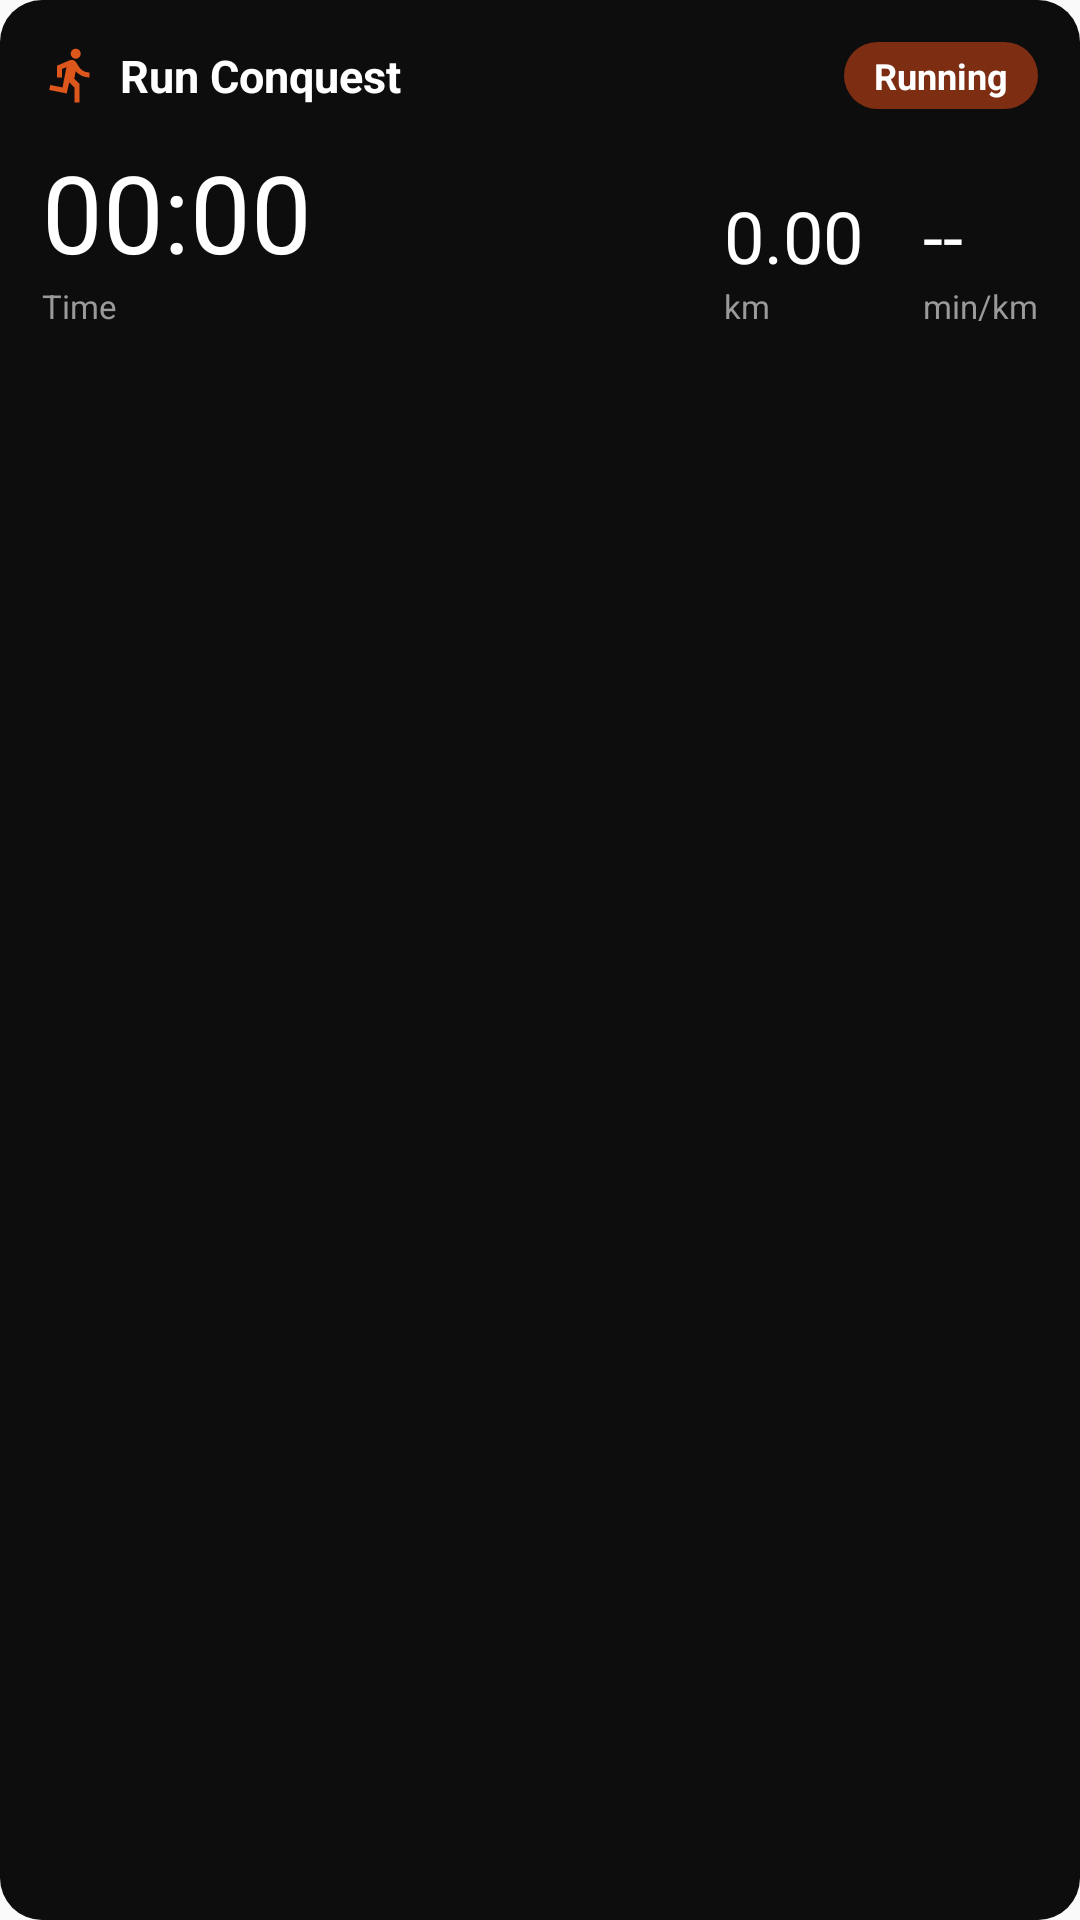

Where to tap for icons on this 1080*1920 app screen, as (x=x, y=y):
run notif runner: (x=69, y=75)
